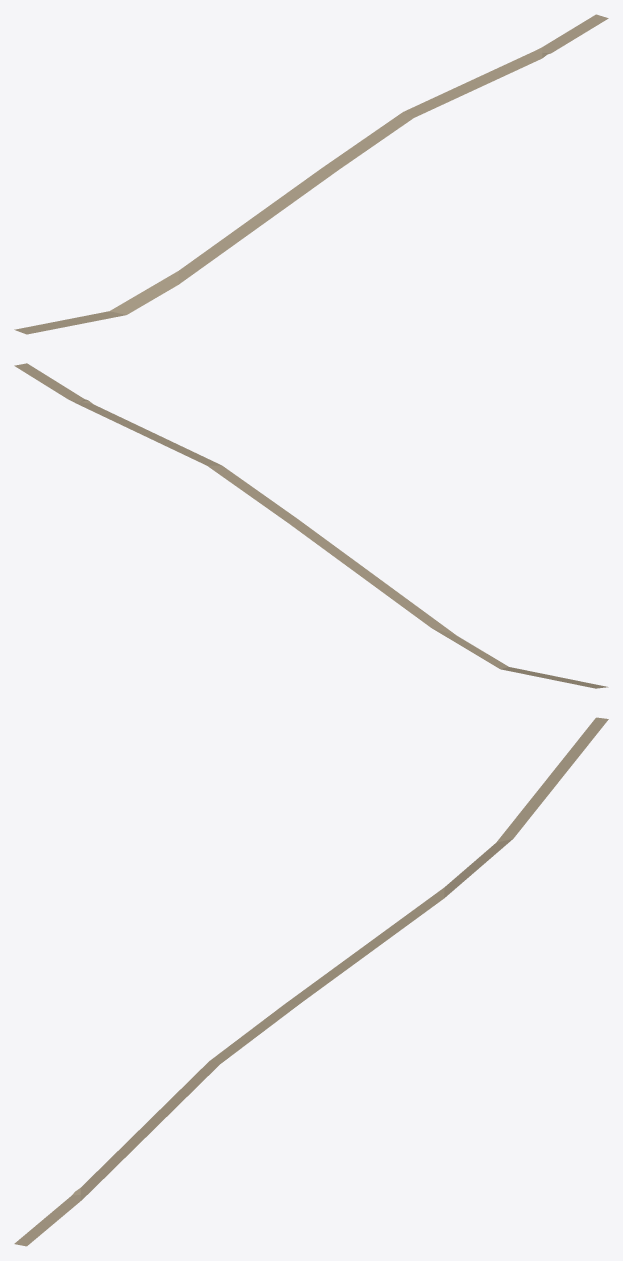
File: farm_-24_-38_track.glb
3 renders of one model, top to bottom at view 1: azimuth 90°, elevation 25°; view 2: azimuth 150°, elevation 25°; view 3: azimuth 270°, elevation 25°, orthographic.
Visible parts, largest first — view 1: geometry_0; view 2: geometry_0; view 3: geometry_0.
Boxes of the visible parts, x1,y1,x2,y2 form: geometry_0: (14, 14, 608, 334); geometry_0: (14, 363, 608, 688); geometry_0: (14, 717, 608, 1246).
Bounding box in the file's own units: 221 × 25.92 × 131.
